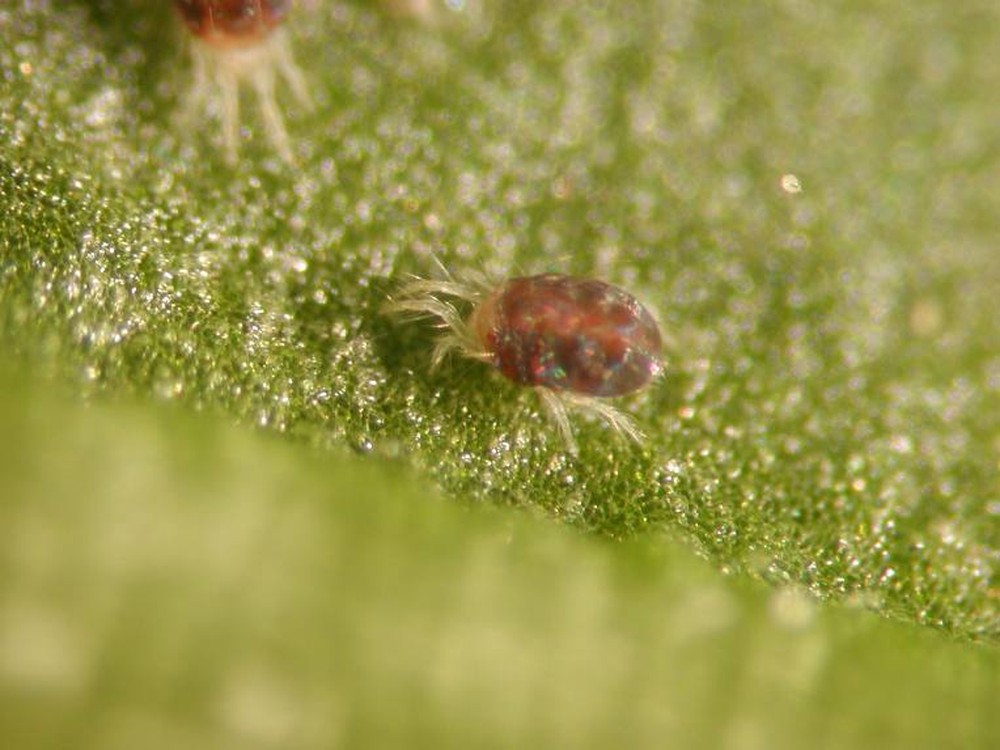Aracnido Rojo: (365, 223, 719, 487)
